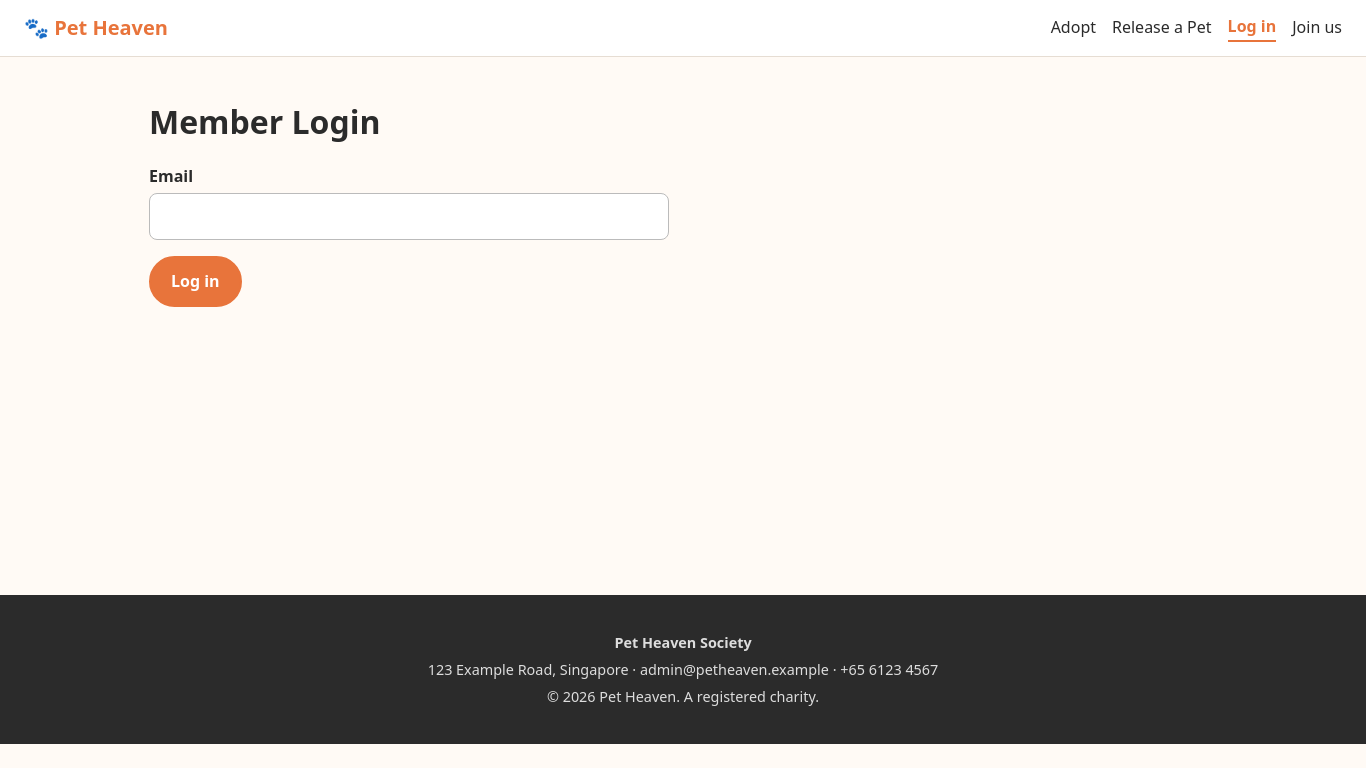
Scenario: Membership and access control › returns a member to the adopt form after logging in
Step 1. Type "amy@example.com" into the field labelled "Email" → (409, 217), box left=149, top=194, right=669, bottom=240
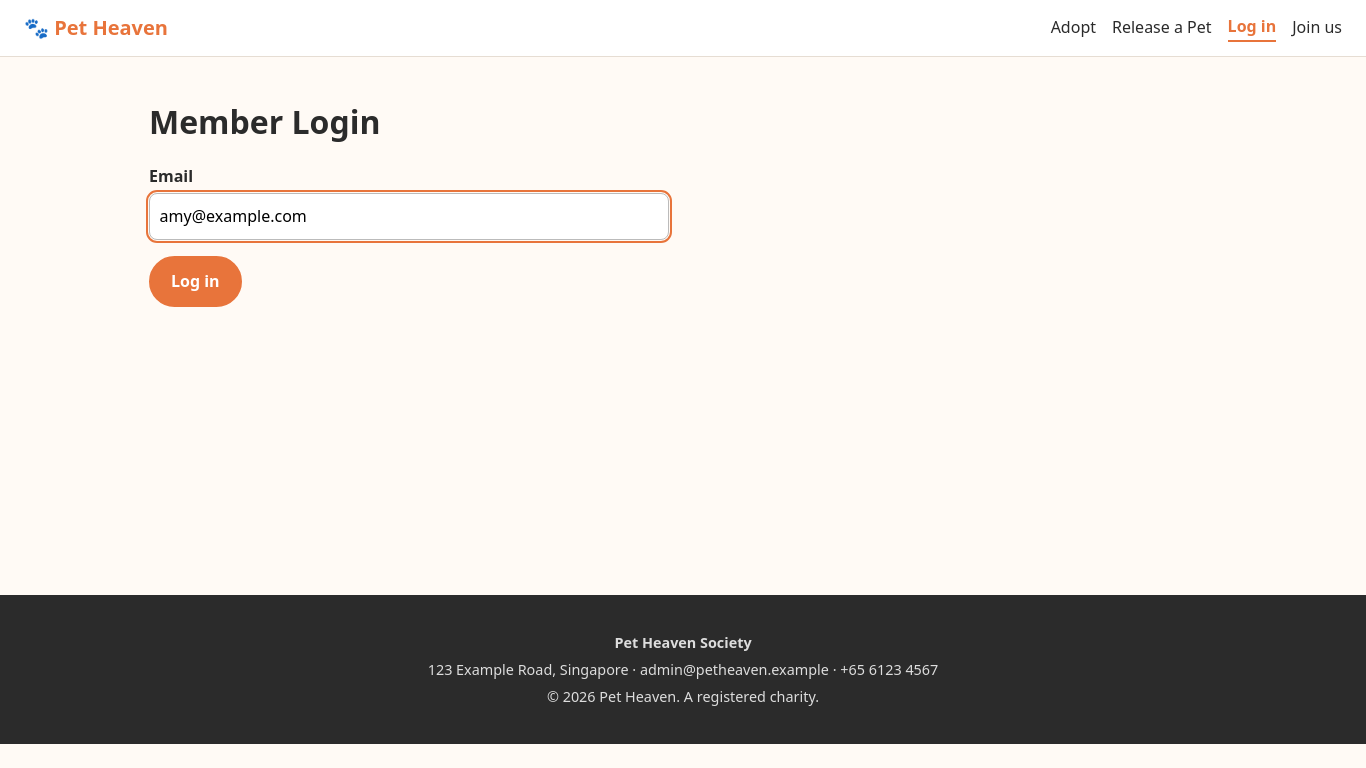
Step 2. Click the button "Log in" → (195, 282), box left=149, top=256, right=242, bottom=307
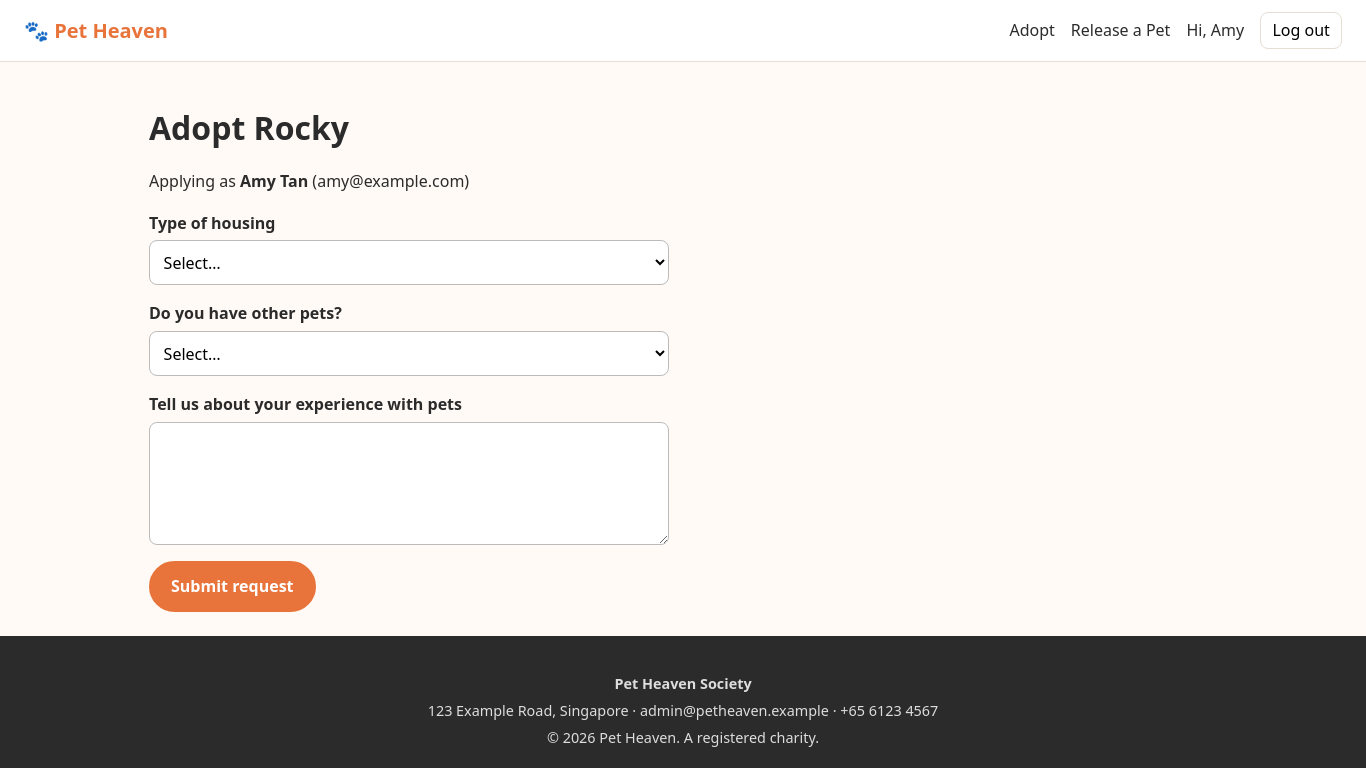
Now the heading "Adopt Rocky" is shown, box left=149, top=106, right=349, bottom=149
